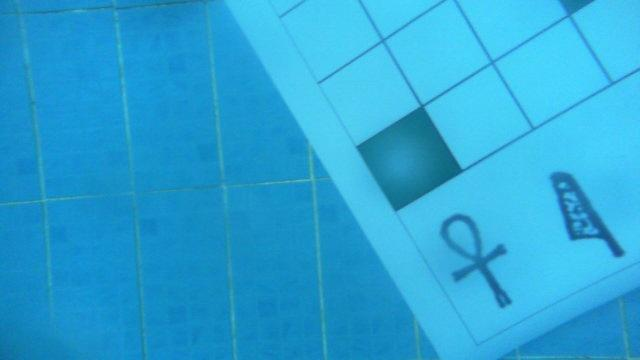Ankh: (435, 211, 517, 315)
Reed: (542, 165, 627, 261)
